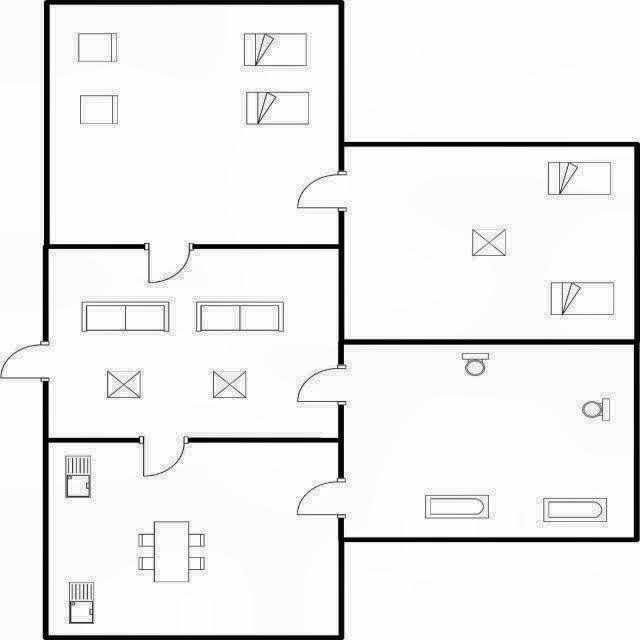room: (50, 5, 339, 244), (344, 147, 634, 339), (344, 345, 634, 537), (49, 443, 339, 635), (49, 249, 338, 438)
